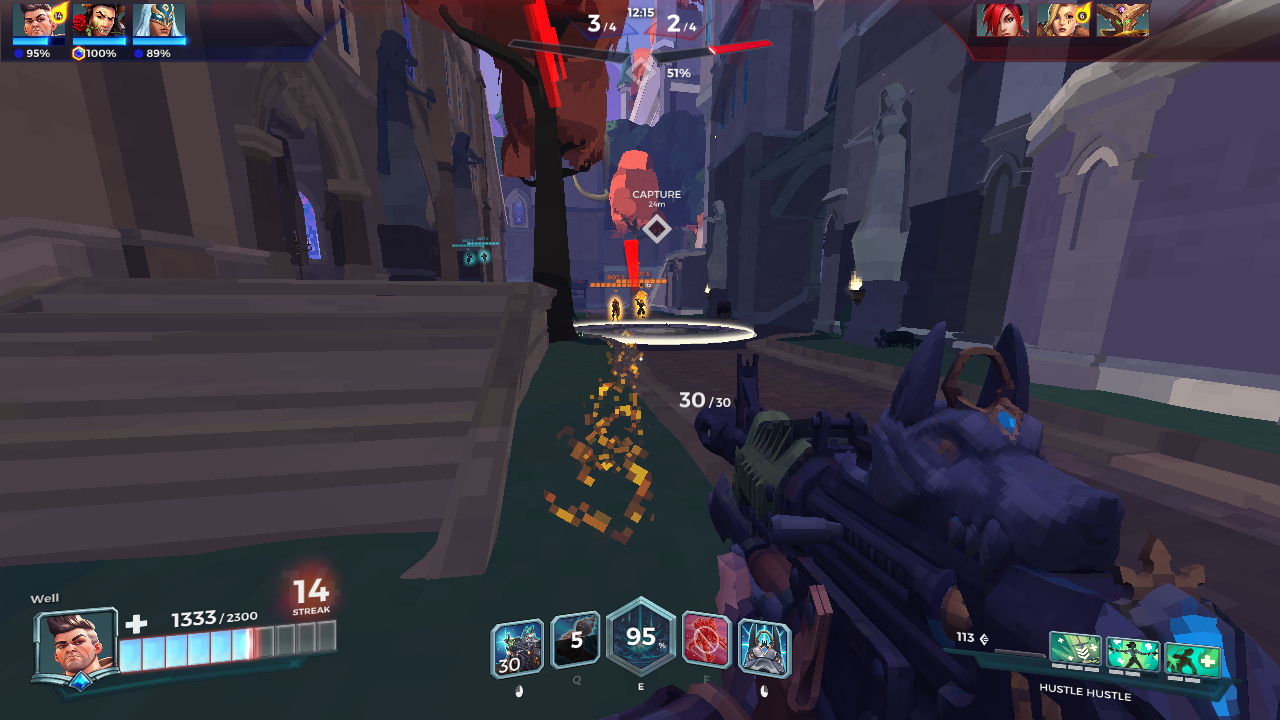model: (607, 288, 624, 320), (633, 294, 645, 321)
